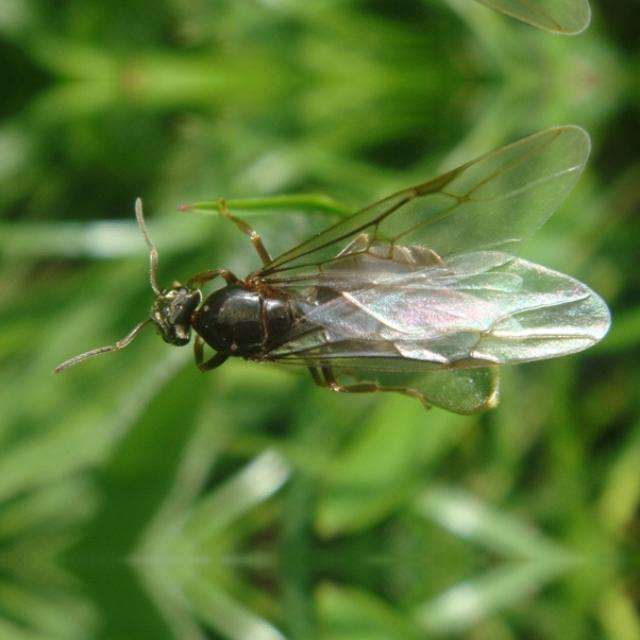Lasius: (90, 204, 614, 430)
